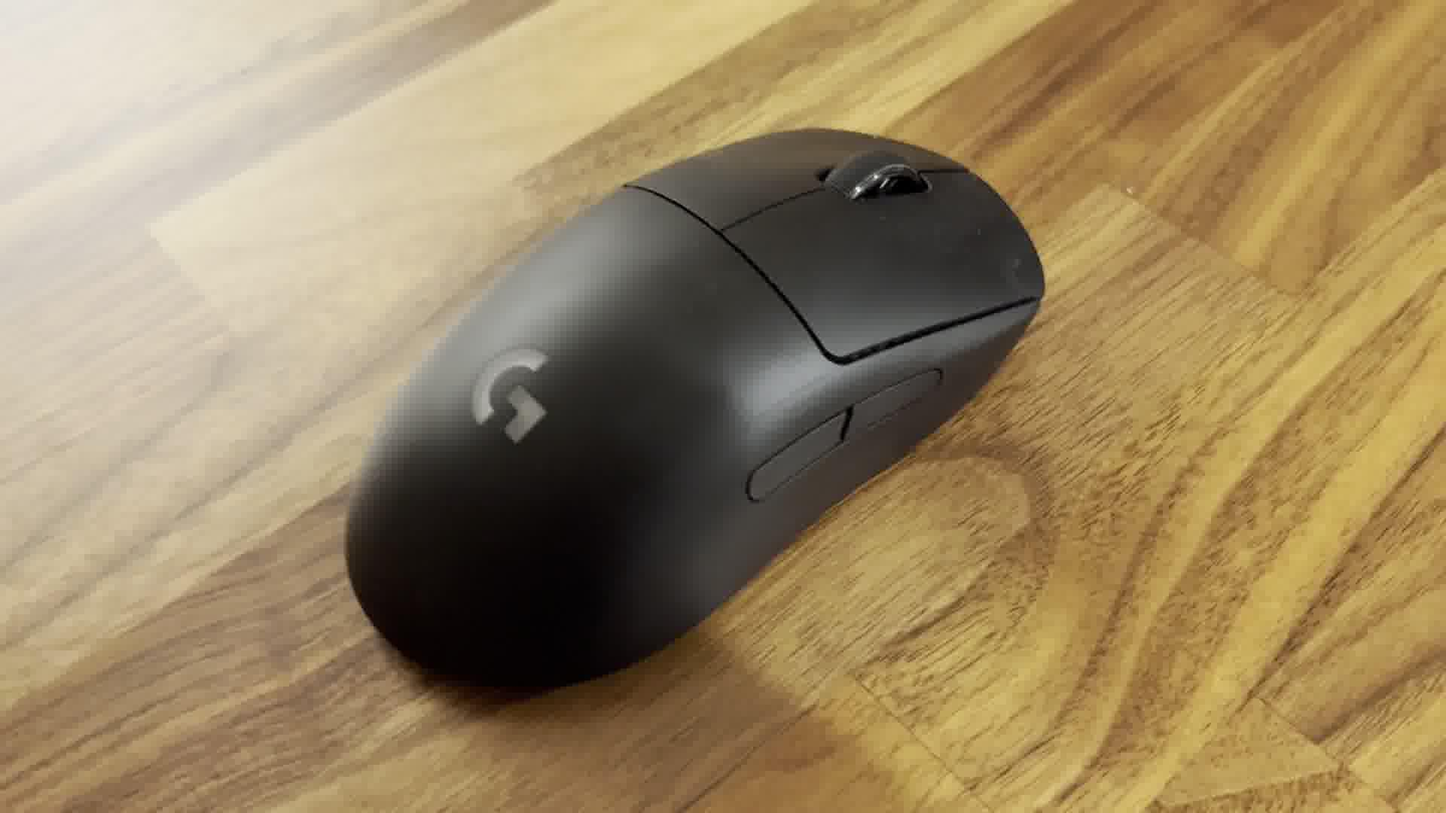logicool: (336, 122, 1048, 689)
